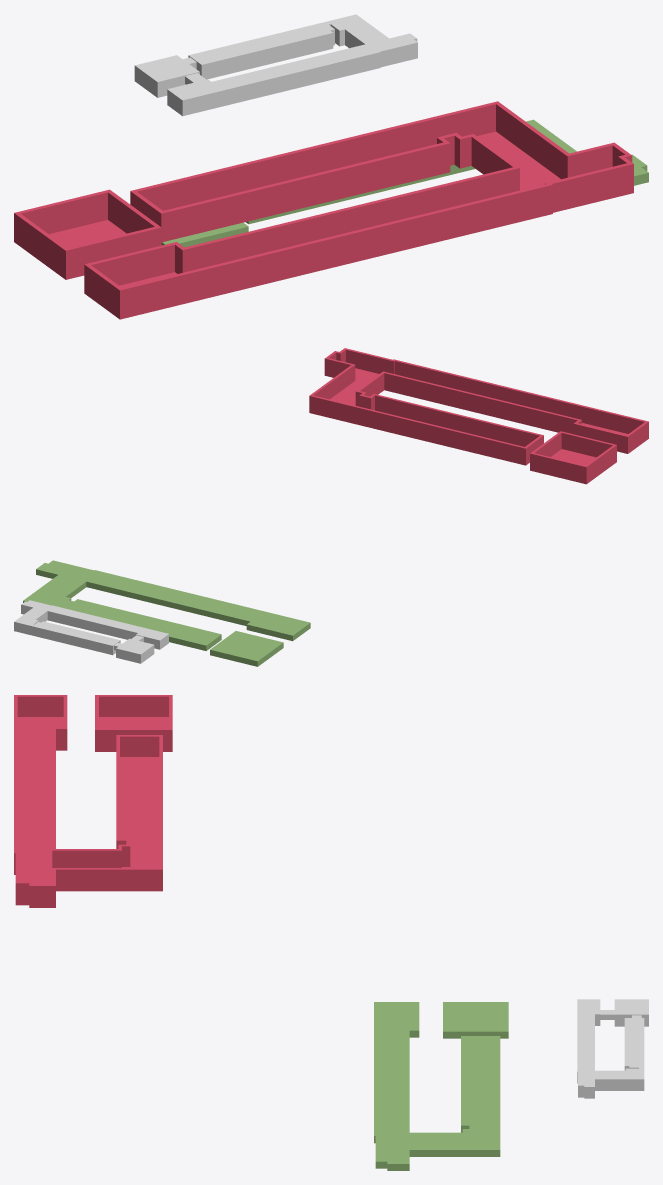
The model's file is ergqerg.glb.
3 views of the same model, one above another, from view 1: azimuth 30°, elevation 25°; view 2: azimuth 150°, elevation 25°; view 3: azimuth 270°, elevation 25° (orthographic). The views are drawn at different scales.
Visible parts, largest first — view 1: F1, Cube, F2; view 2: F1, F2, Cube; view 3: F1, F2, Cube.
Part boxes in pixels (x1,y1,x2,y2): F1: (14, 101, 633, 319); Cube: (134, 14, 417, 116); F2: (161, 119, 648, 247); F1: (309, 348, 648, 484); F2: (23, 560, 310, 666); Cube: (14, 600, 168, 663); F1: (14, 695, 172, 907); F2: (374, 1002, 508, 1170); Cube: (577, 999, 648, 1098).
Size of the model in its own units: 15.39 by 4.85 by 14.55.
